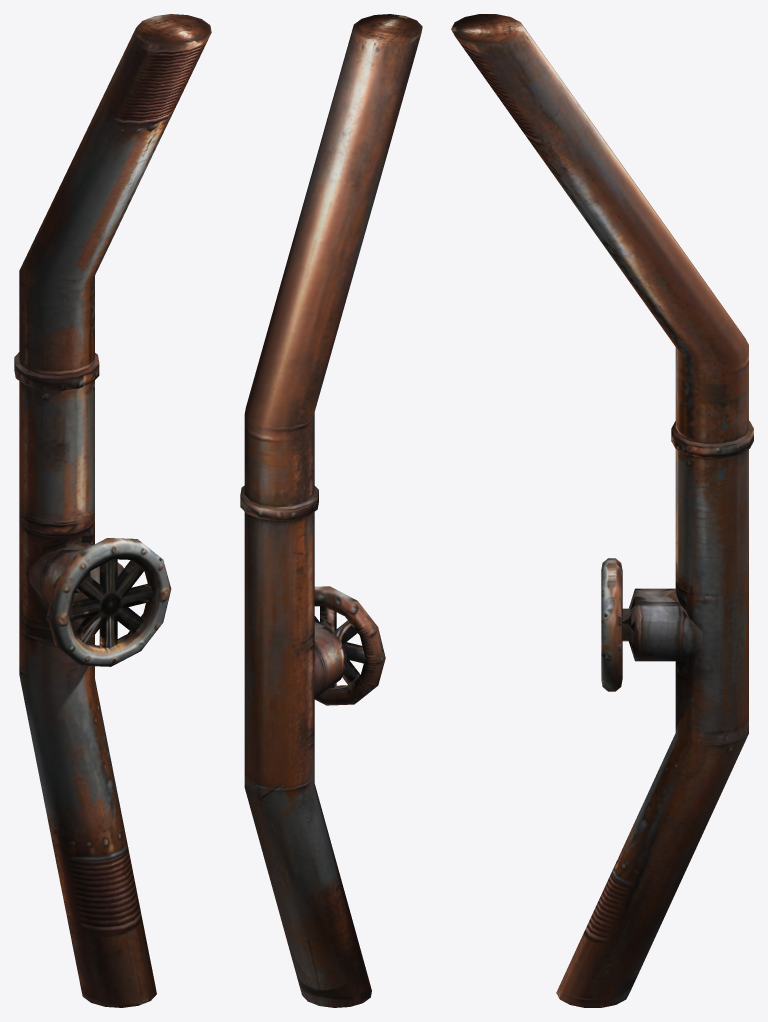
The model's file is _0609230300_texture.fbx.
The picture shows the model from 3 angles, left to right: view 1: azimuth 30°, elevation 25°; view 2: azimuth 150°, elevation 25°; view 3: azimuth 270°, elevation 25°; orthographic projection. The views are drawn at different scales.
Parts seen in each view (by area): view 1: polySurface12; view 2: polySurface12; view 3: polySurface12.
Part boxes in pixels (<box>): polySurface12: <box>14,14,211,1007</box>; polySurface12: <box>240,14,422,1007</box>; polySurface12: <box>451,14,753,1007</box>.
Size of the model in its own units: 25.13 by 200 by 56.83.
1 material, 1 textured.
